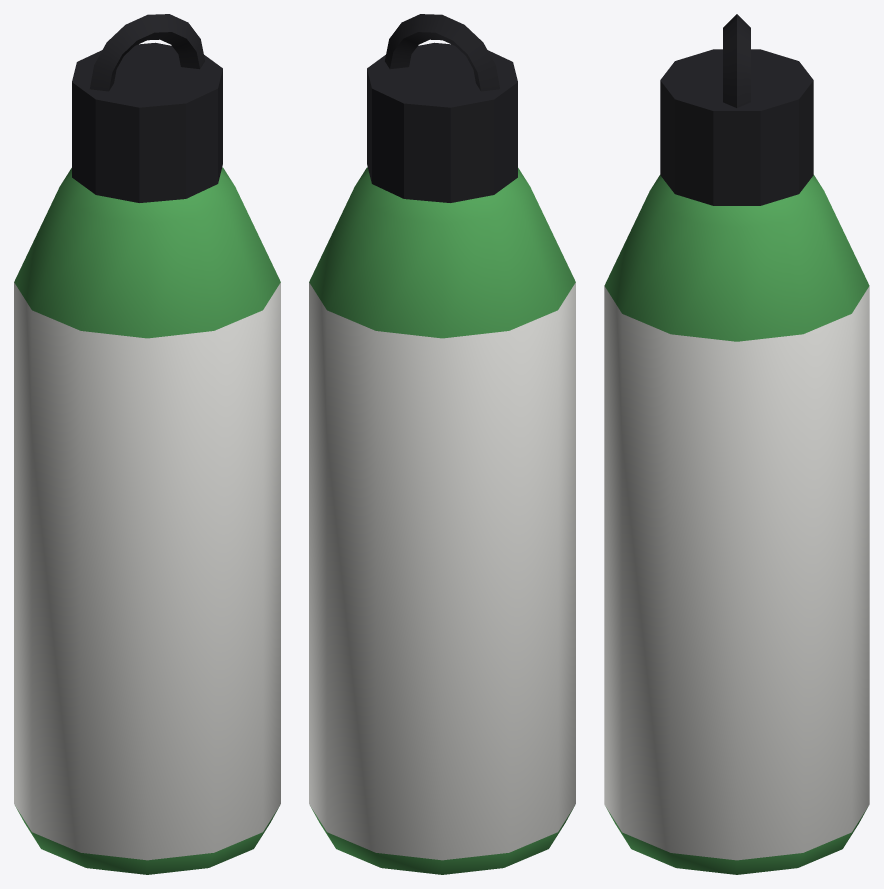
File: SM_Water_Bottle.glb
3 views of the same model, side by side, from view 1: azimuth 30°, elevation 25°; view 2: azimuth 150°, elevation 25°; view 3: azimuth 270°, elevation 25° (orthographic).
Parts seen in each view (by area): view 1: SM_Water_Bottle; view 2: SM_Water_Bottle; view 3: SM_Water_Bottle.
Boxes of the visible parts, box(x1,y1,x2,y2) form: SM_Water_Bottle: box(14, 14, 280, 874); SM_Water_Bottle: box(309, 14, 575, 874); SM_Water_Bottle: box(604, 14, 869, 874).
Size of the model in its own units: 0.076 by 0.254 by 0.076.
1 material, 1 textured.
